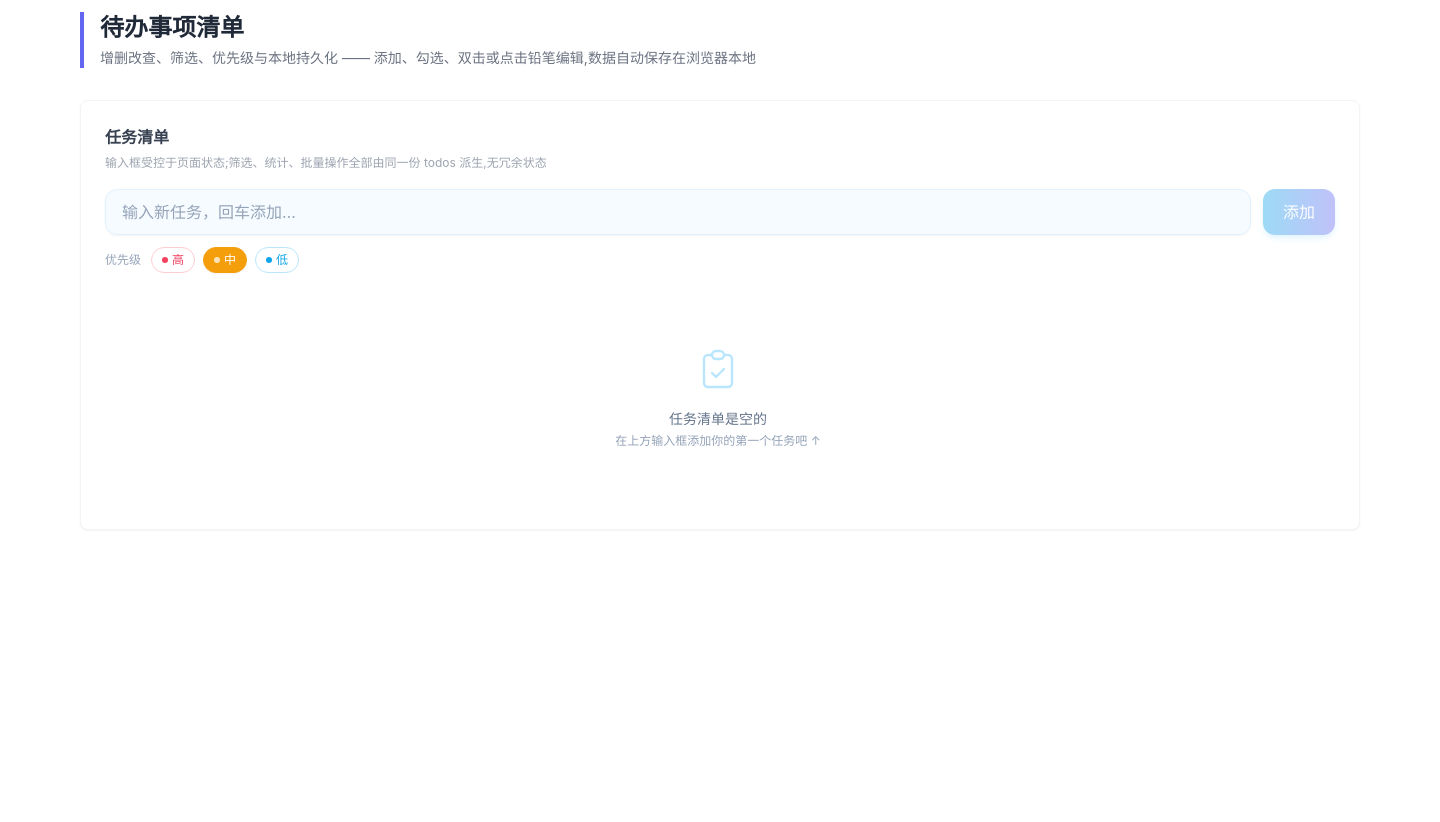
Test: Todo 页面 — 筛选 › 筛选无结果时显示"当前筛选下没有任务"
Type "一个未完成的任务" into the field with placeholder "输入新任务，回车添加…" at (678, 212), box [105,188,1251,234]
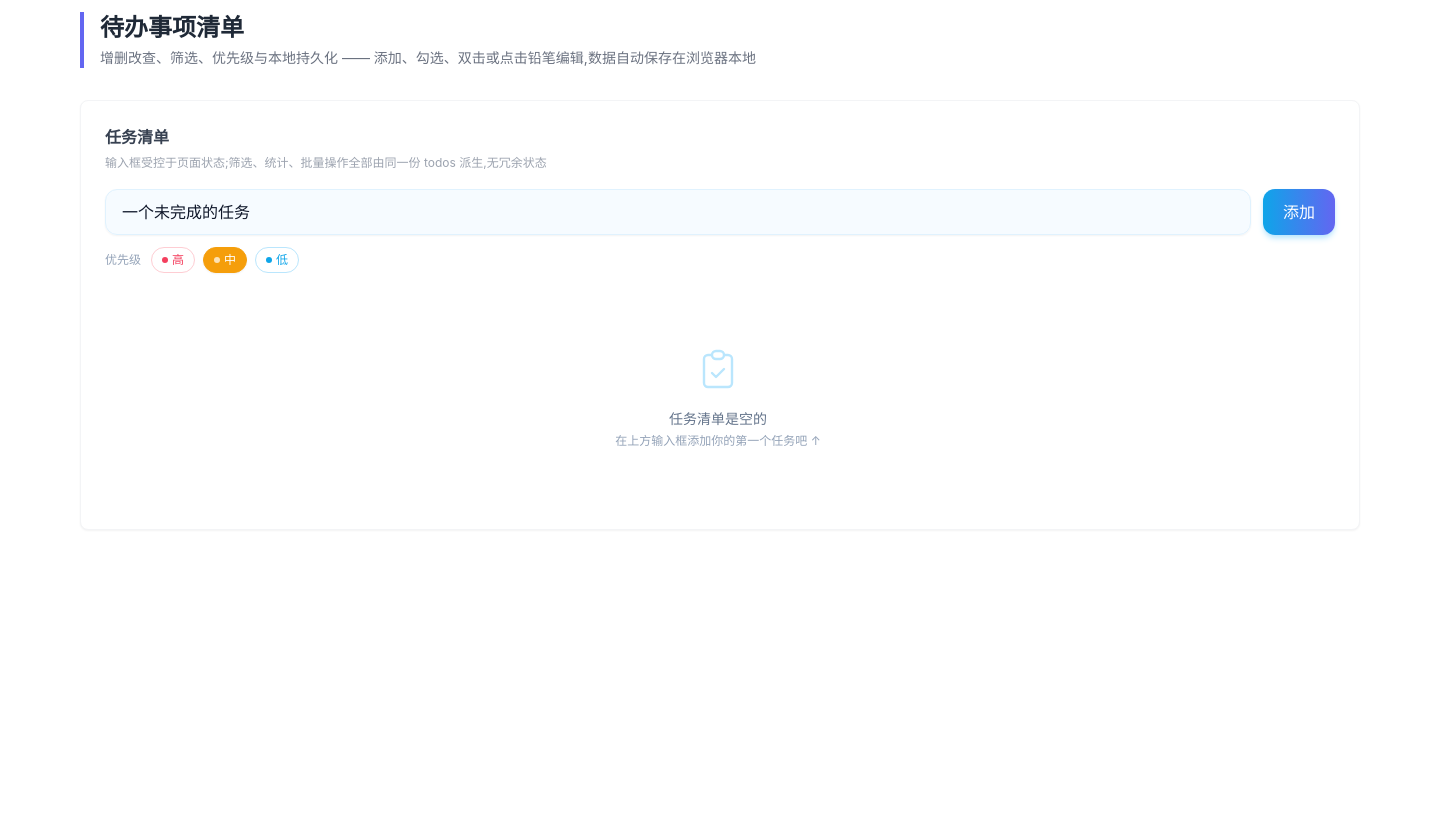
Click the button "添加" at (1299, 212), box [1263,188,1335,234]
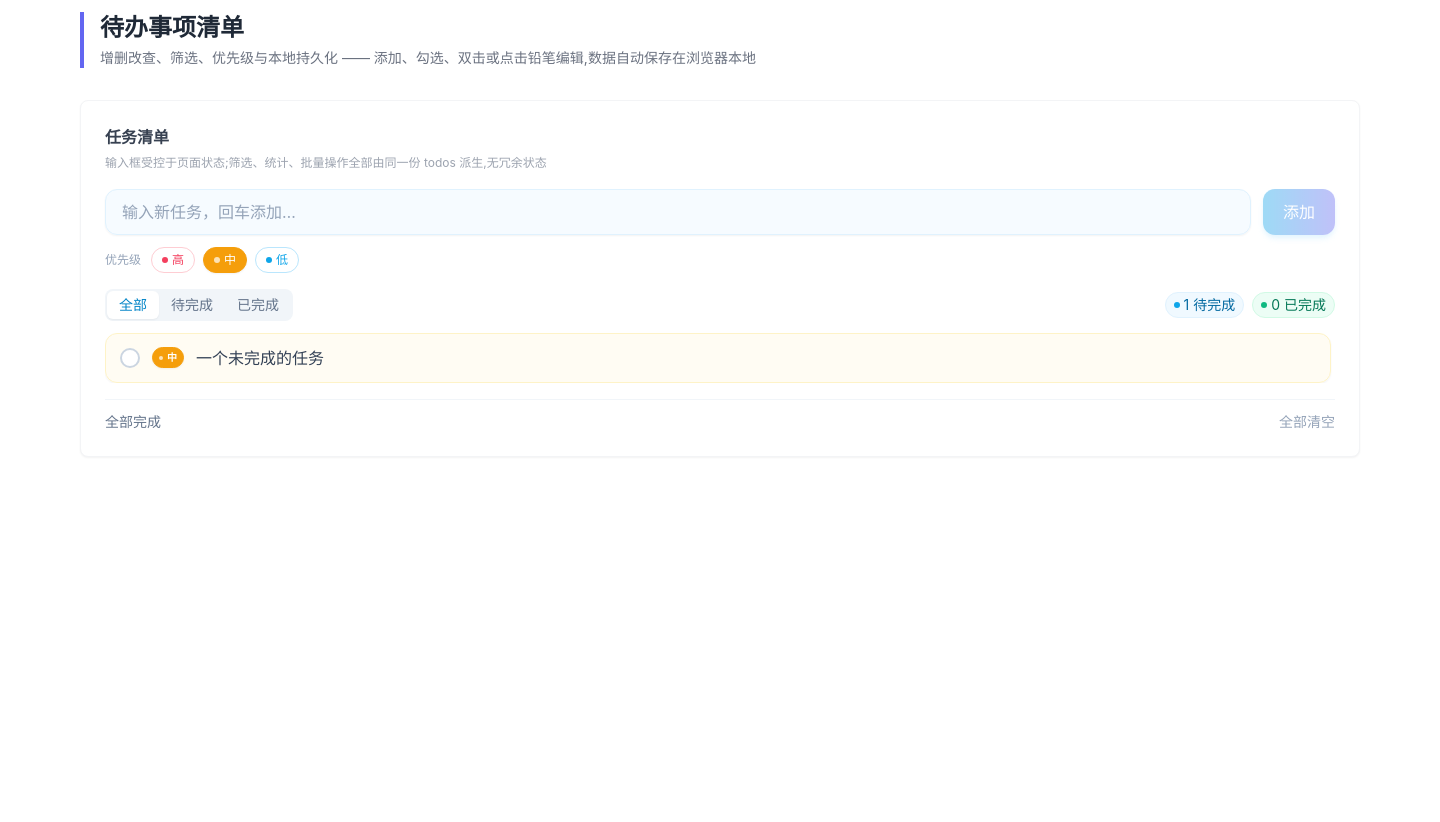
Click the button "已完成" at (258, 304), box [225,290,291,318]
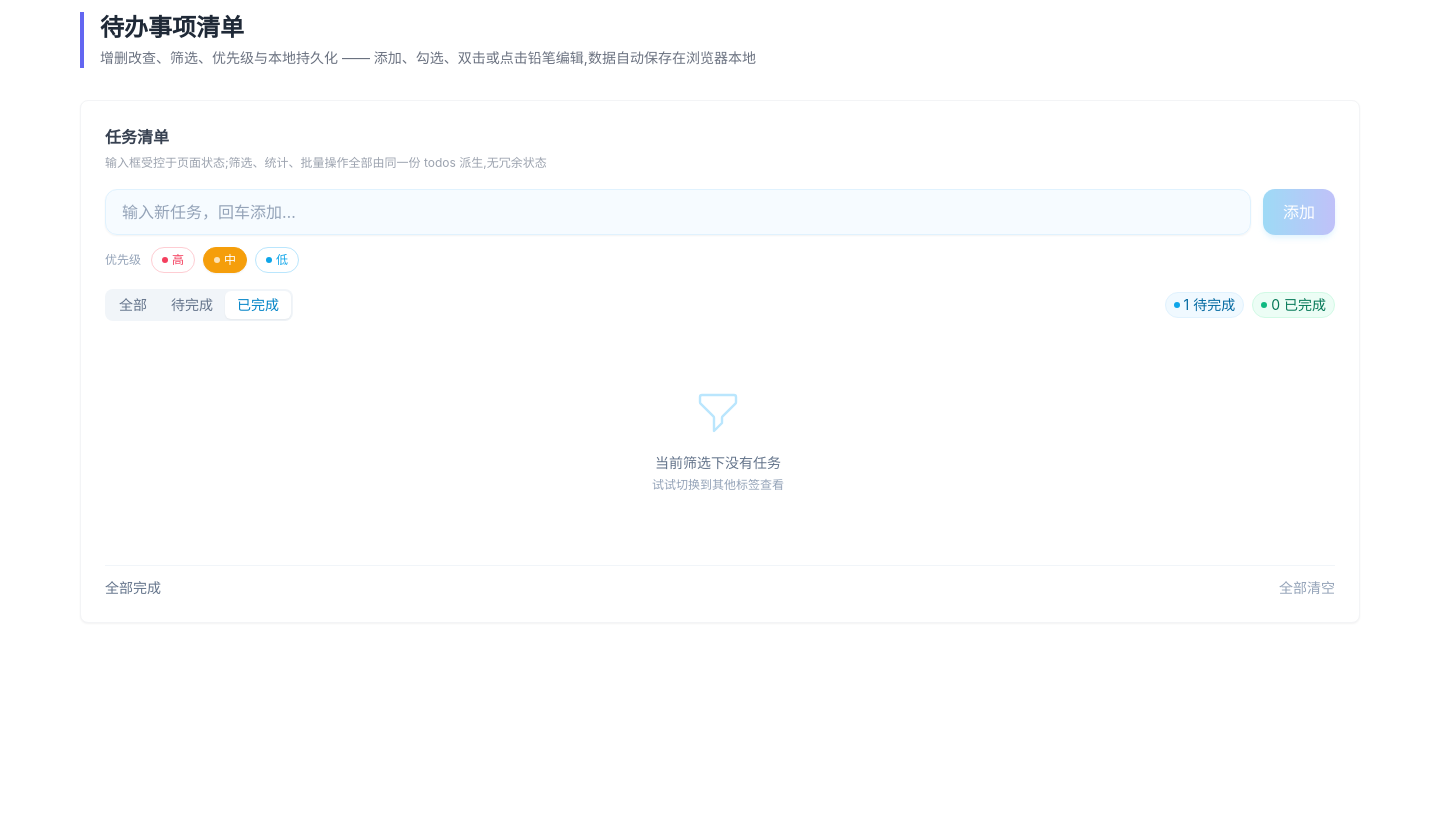
Now the text "当前筛选下没有任务" is shown, box [655,452,781,472]
